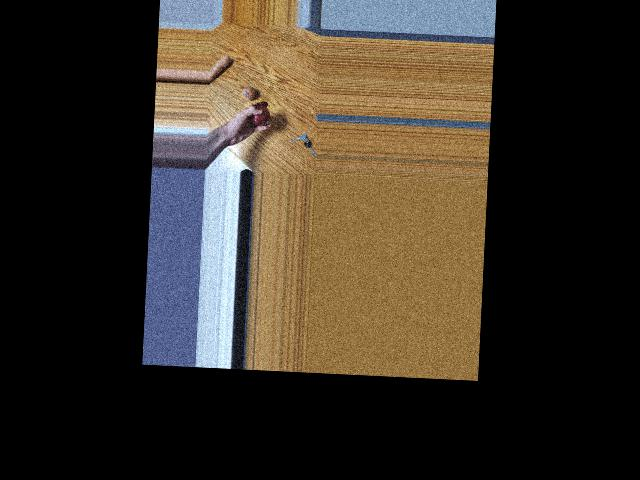onion: (237, 84, 256, 106)
